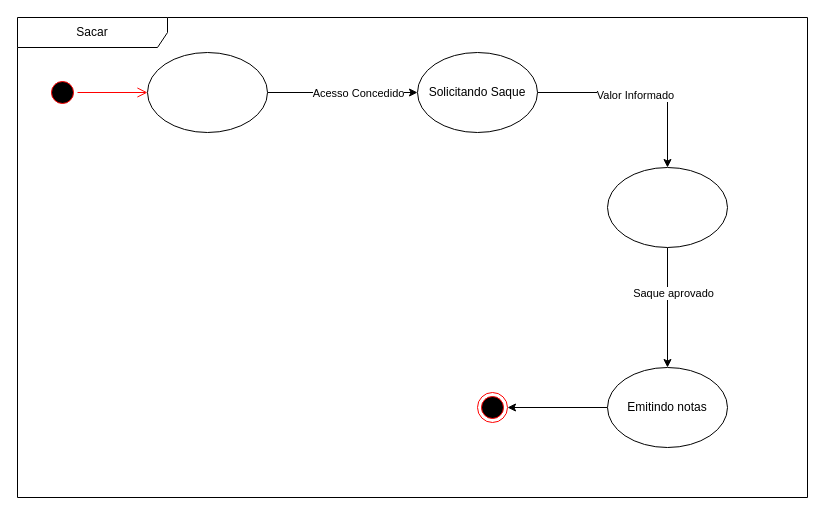
The diagram is 825 pixels wide and 515 high, and some of its shapes have lost their labels. The centre of each missing label's shape, as x and y in pixels:
Acessando conta: (207,92)
Verificando saldo: (667,207)
